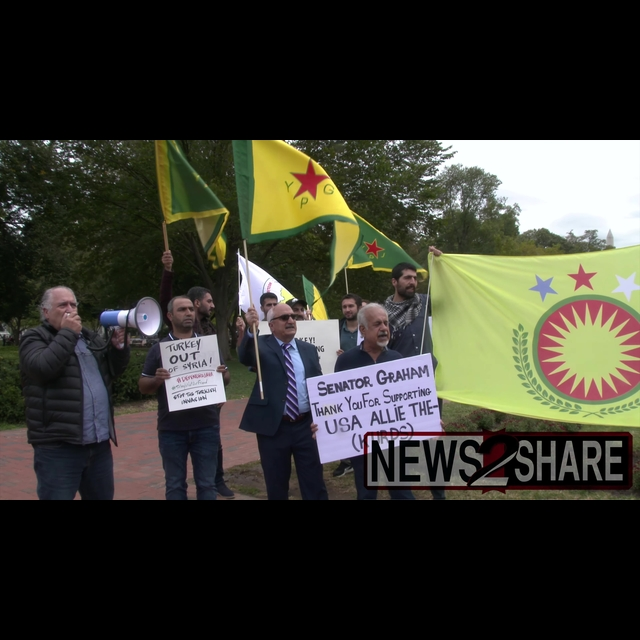YPG: (230, 139, 362, 277)
YPJ: (348, 208, 428, 274)
